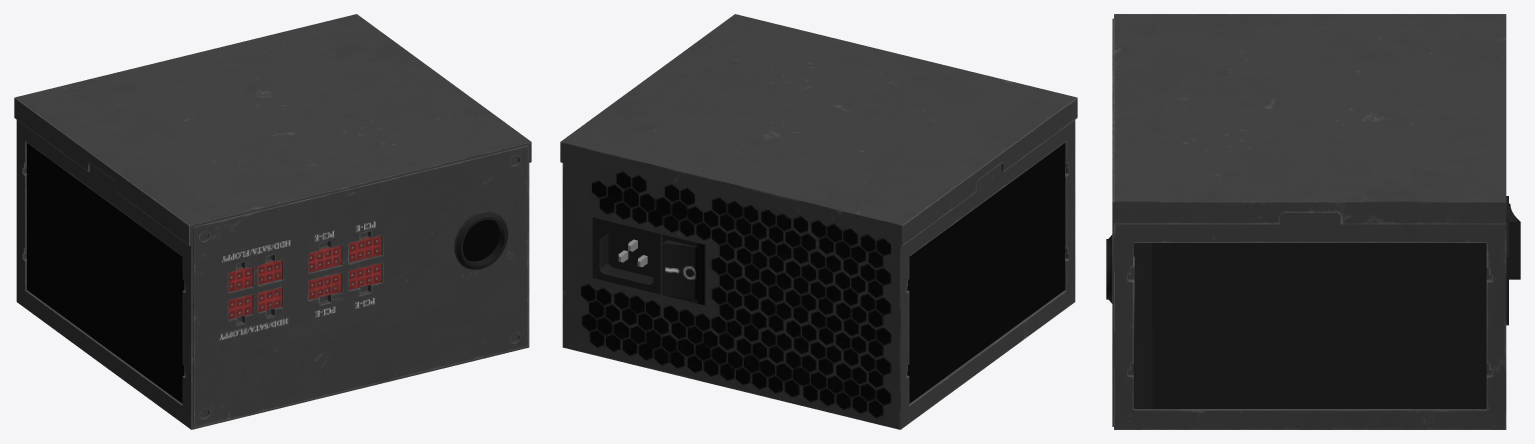
The model's file is psu-corsair-rm750e.glb.
The picture shows the model from 3 angles, left to right: view 1: azimuth 30°, elevation 25°; view 2: azimuth 150°, elevation 25°; view 3: azimuth 270°, elevation 25°; orthographic projection. The views are drawn at different scales.
Visible parts, largest first — view 1: body; view 2: body; view 3: body.
Part boxes in pixels (box(x1,y1,x2,y2)): body: box(14, 14, 531, 429); body: box(560, 14, 1077, 429); body: box(1106, 14, 1520, 429).
Bounding box in the file's own units: 0.15 × 0.086 × 0.14.
Materials: 1 (1 with a texture image).
